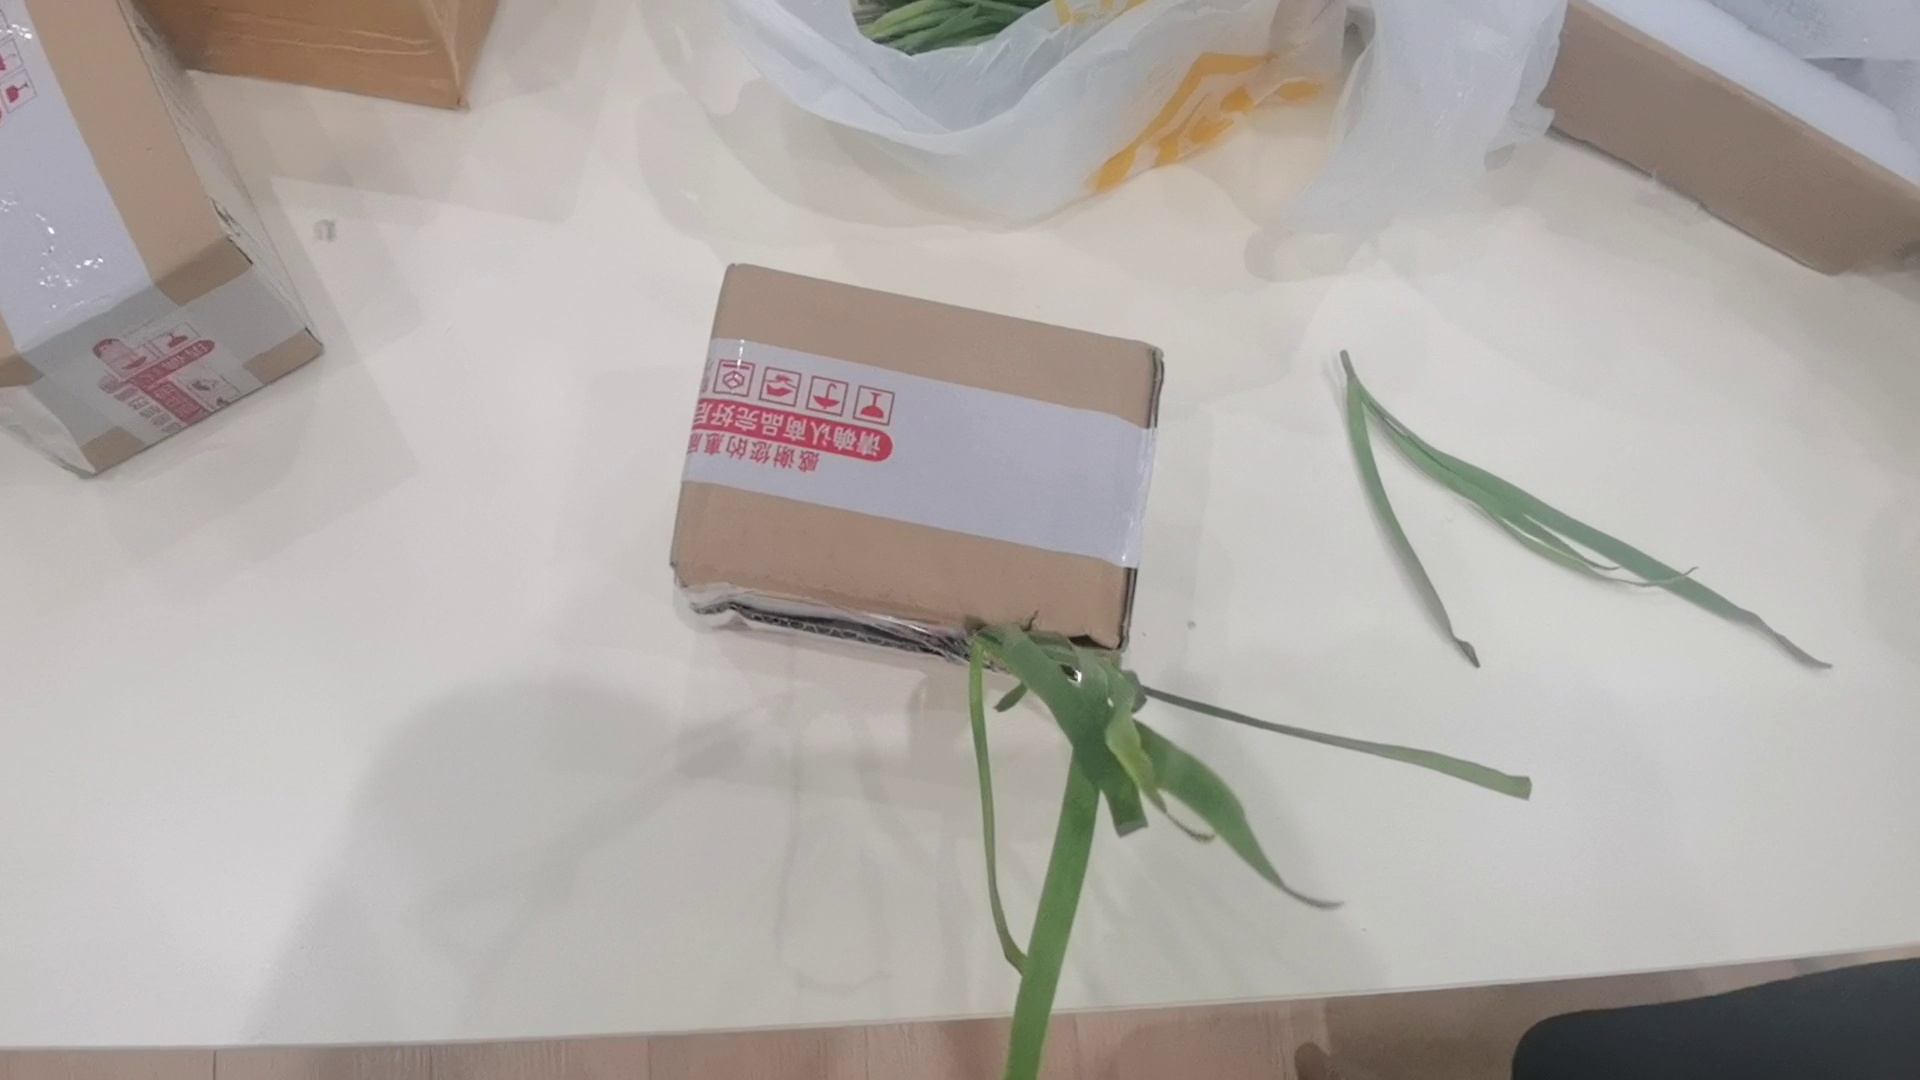chives: (902, 637, 1634, 1080), (1333, 344, 1873, 702)
